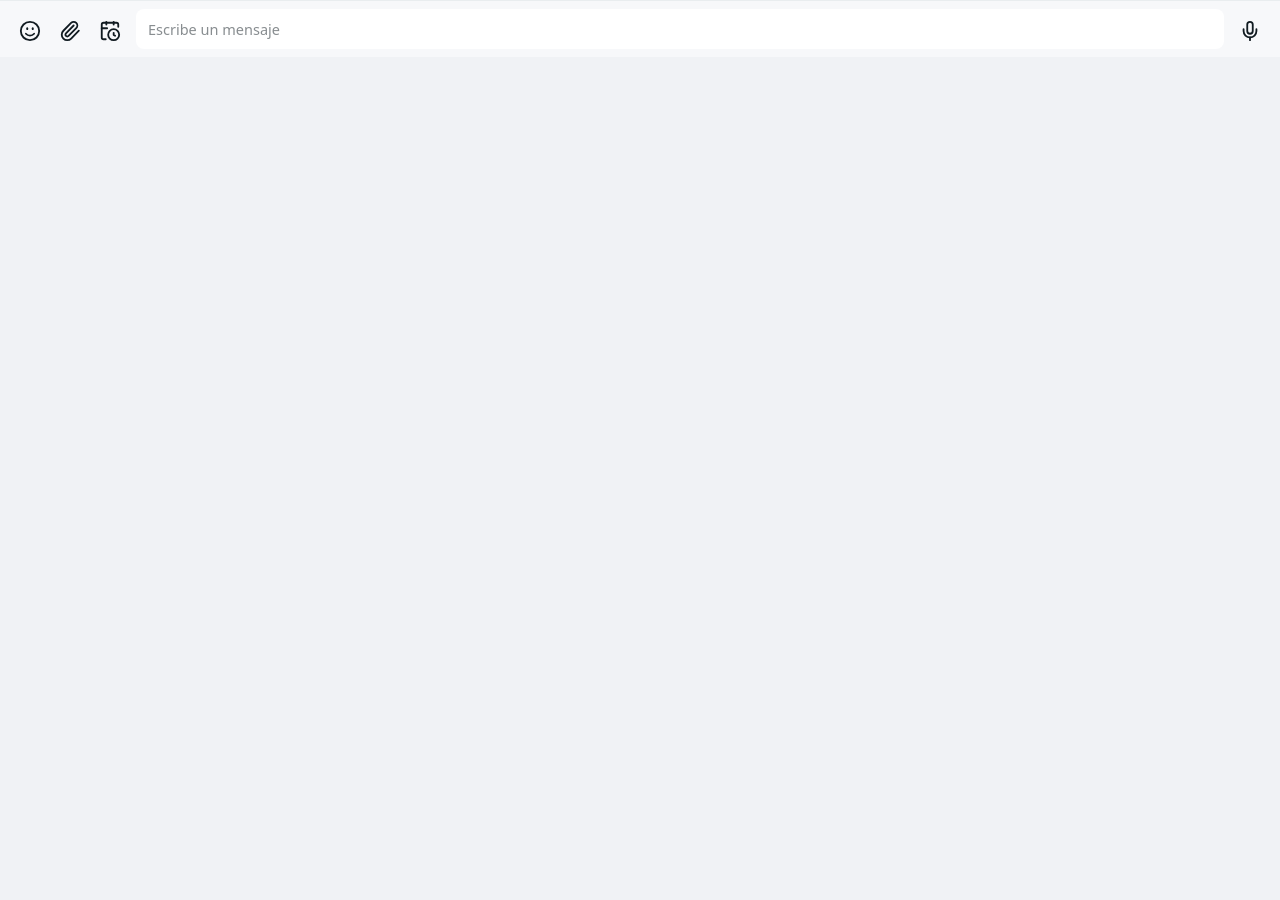
it: botón «Programar» del compositor › cancelar el diálogo deja el borrador intacto
Step 1. Type "Borrador" into the text box with placeholder "Escribe un mensaje" → (680, 29), box [136,9,1224,49]
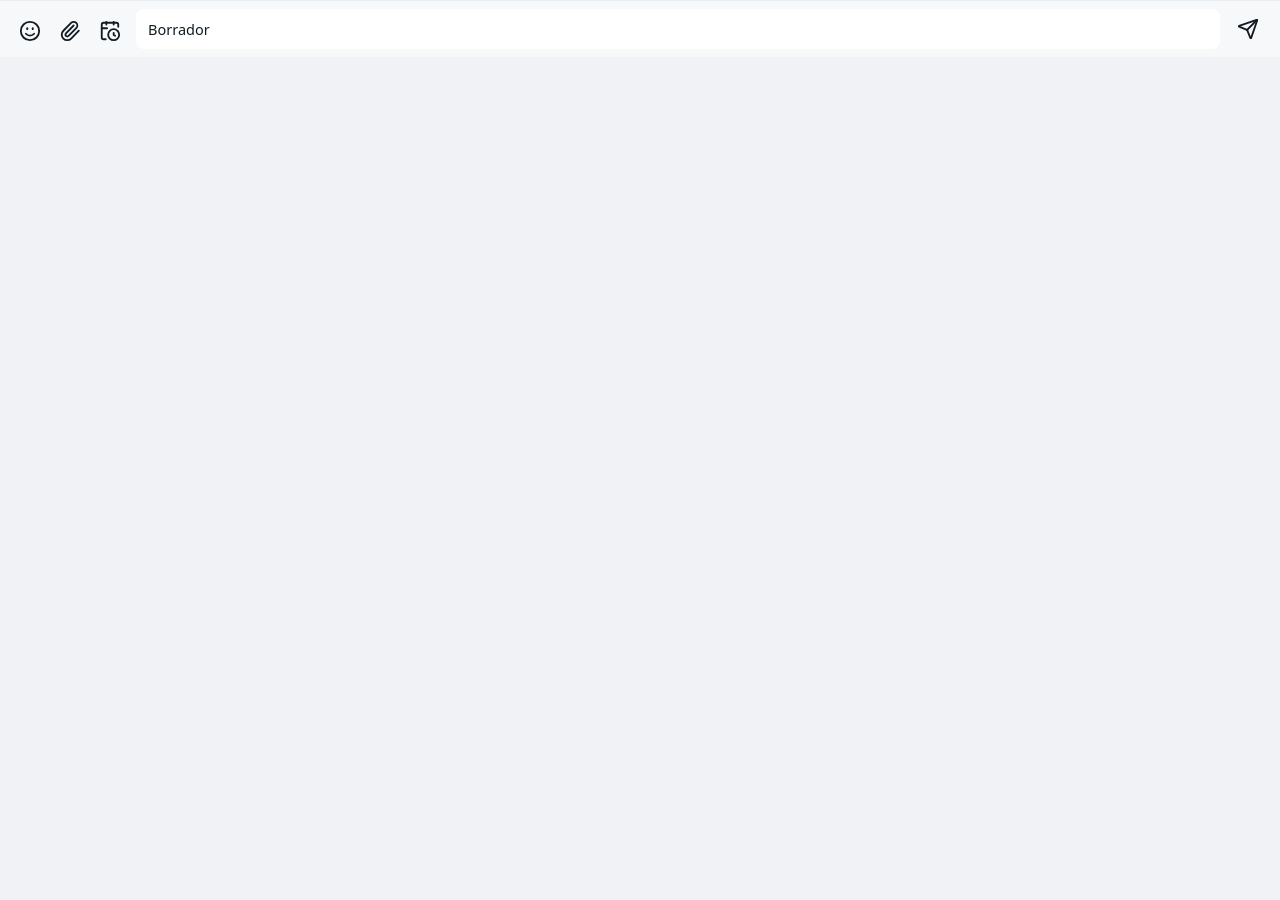
Step 2. Click the button named "Programar mensaje" → click(110, 31), box [92,13,128,49]
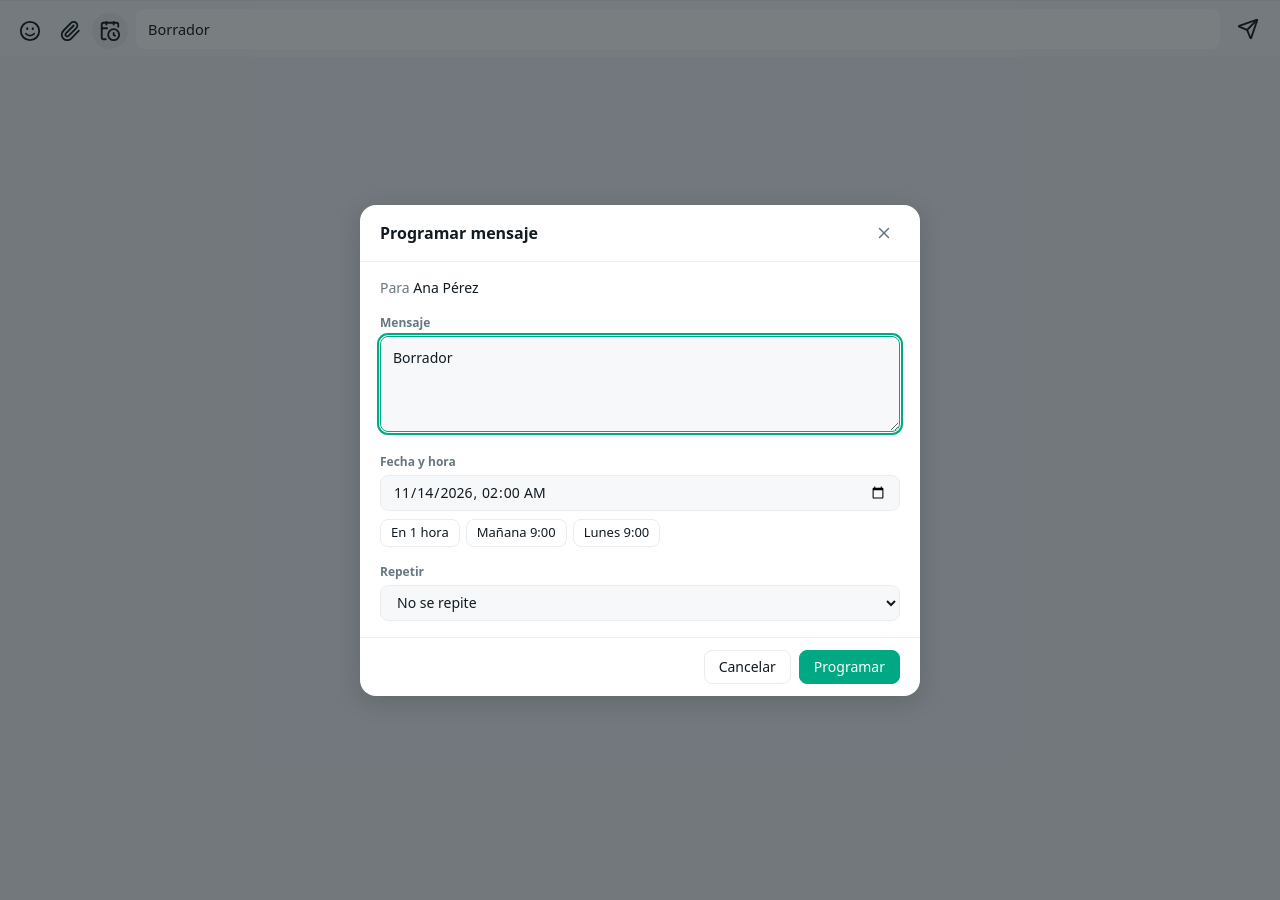
Step 3. Click the button "Cancelar" → click(747, 666), box [704,650,791,684]
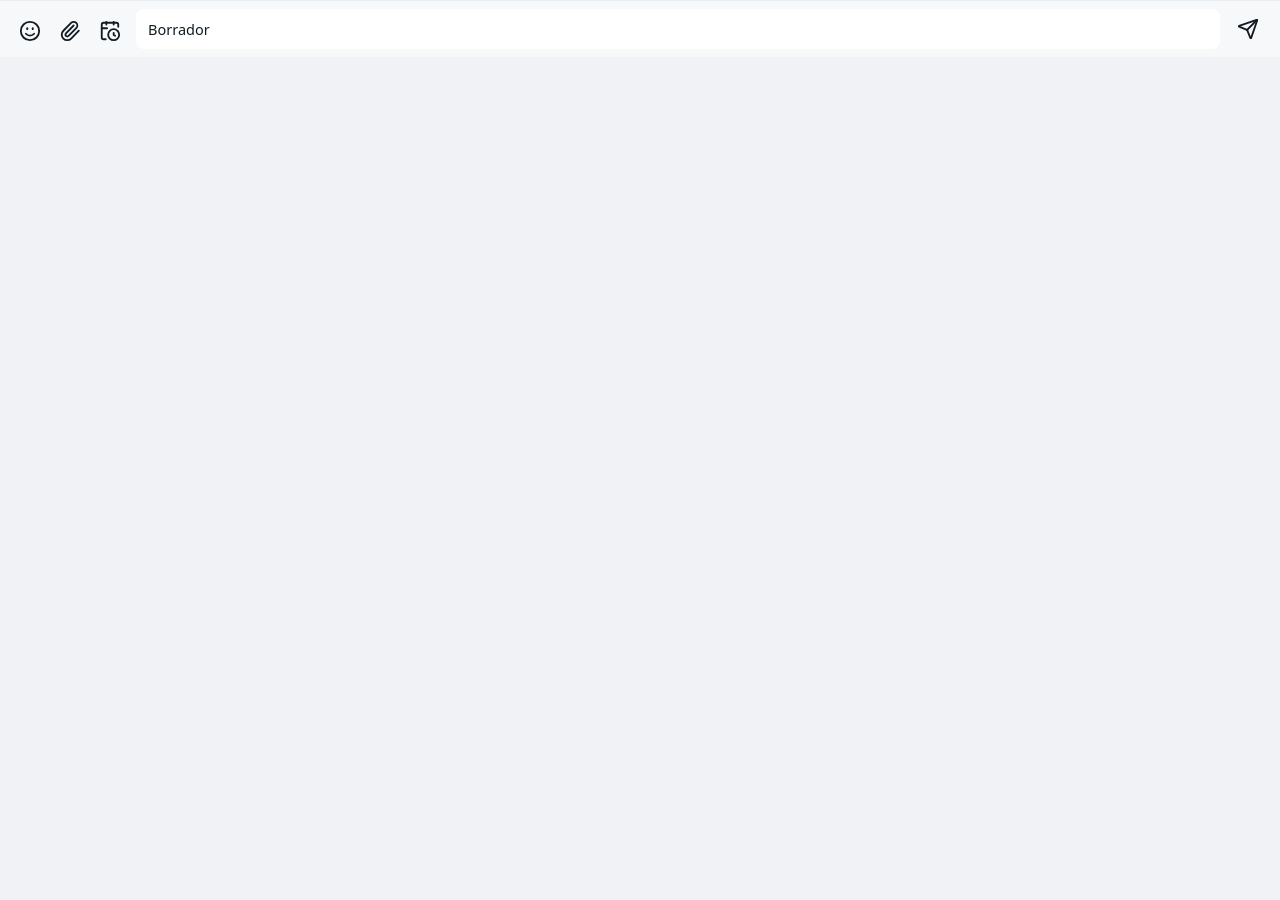
Result: the dialog is gone
